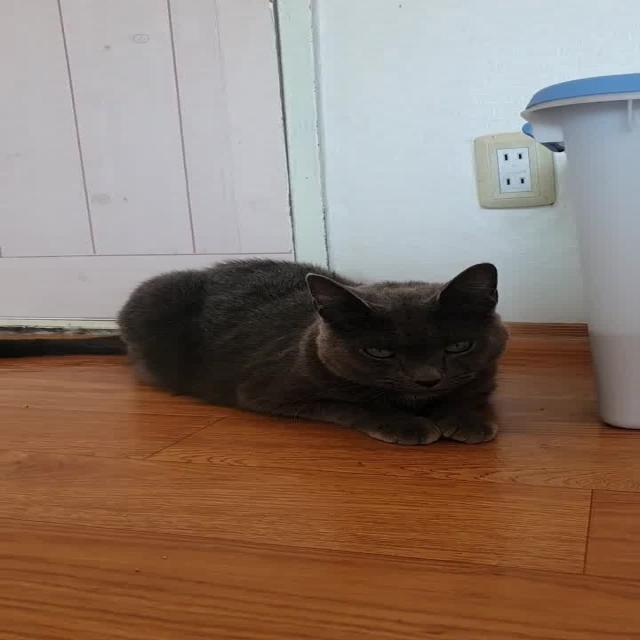cat: (3, 234, 536, 464)
